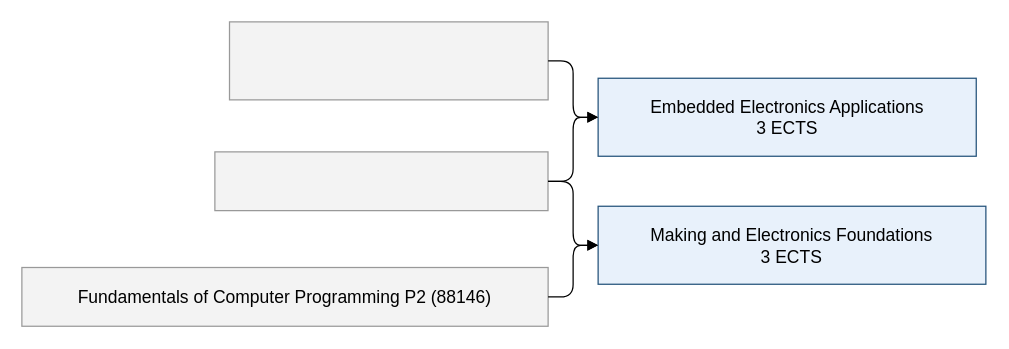
The diagram is 1009 pixels wide and 349 high, and some of its shapes have lost their labels. The centre of each missing label's shape, as x and y in pixels:
"Computer Networks (93315) Embedded Sensors (B5722)" goes at point (388, 60).
"Laboratory of Making (81678)" goes at point (381, 181).
